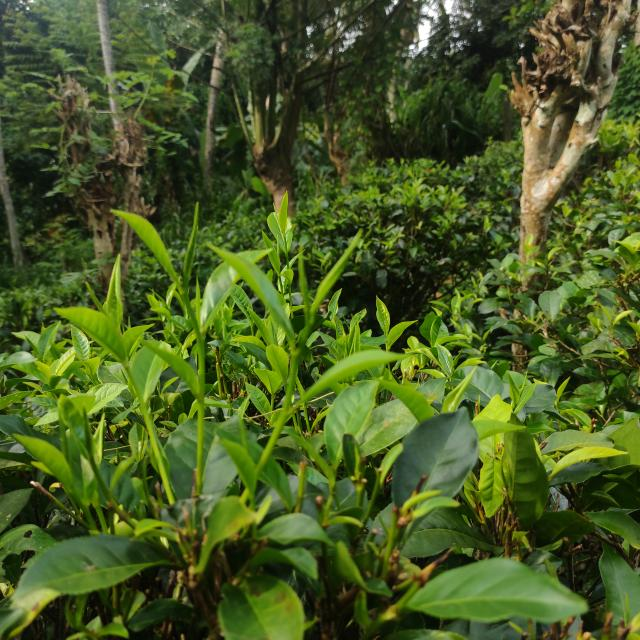unopened_leaf: (180, 195, 210, 289), (290, 237, 322, 324), (82, 274, 113, 324), (78, 399, 100, 468), (516, 364, 533, 394)
